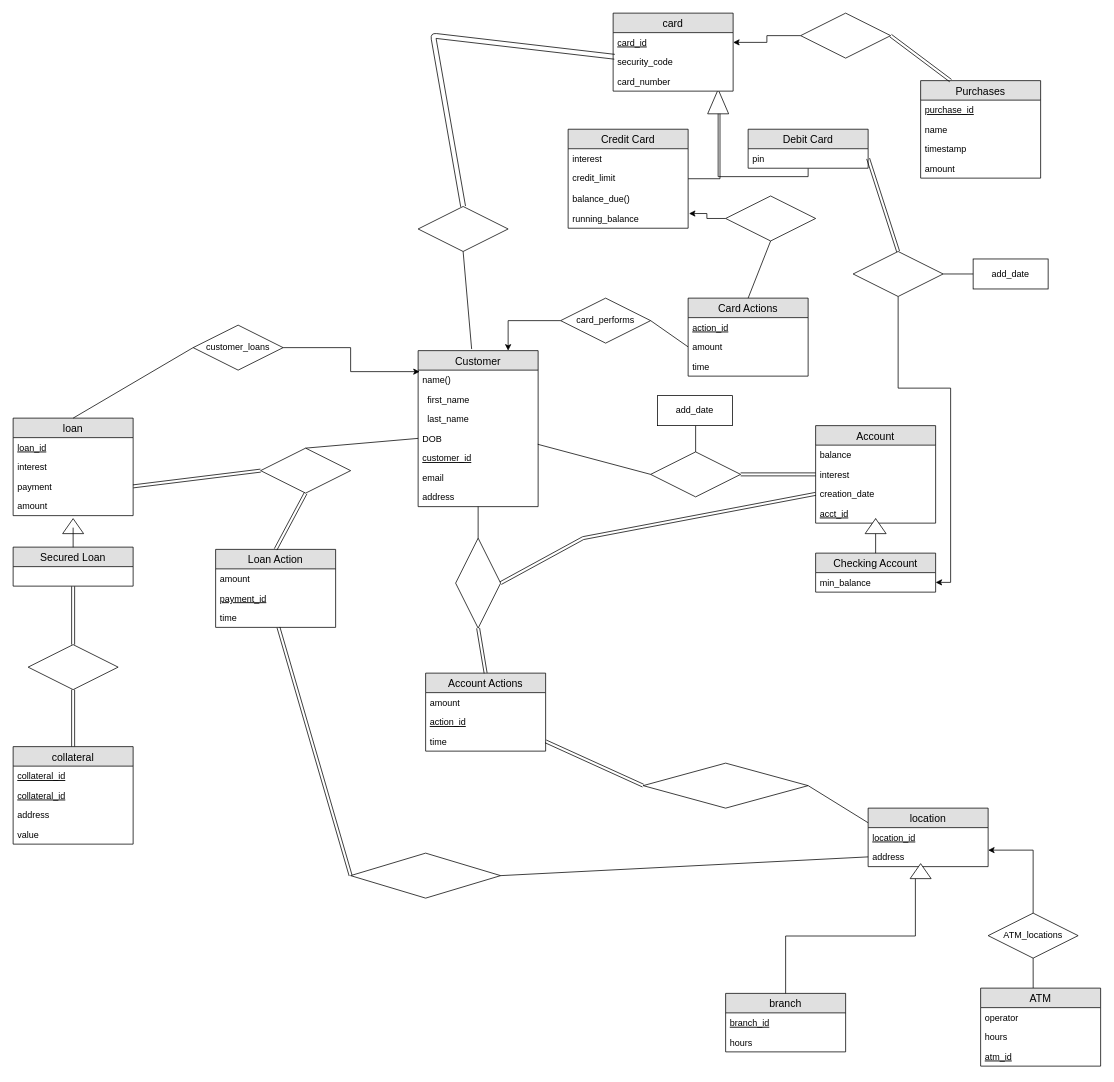
This 1114x1082 diagram has some shape labels left out. The shapes that lost their labels are listed below. From the top down, each one's centre as x and y in pixels, then its label:
At (x=845, y=35): "buys".
At (x=462, y=228): "customer_cards".
At (x=770, y=218): "card_payments".
At (x=897, y=273): "card_account".
At (x=305, y=470): "loan_payment".
At (x=695, y=474): "customer_accounts".
At (x=478, y=582): "account_performs".
At (x=72, y=667): "loan_collateral".
At (x=725, y=785): "account_actions_location".
At (x=425, y=875): "loan_payment_location".
